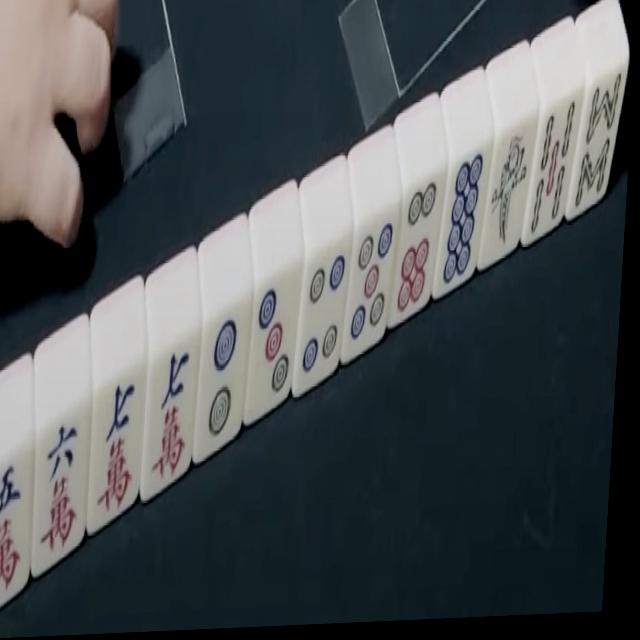m5: (0, 455, 31, 597)
m6: (27, 412, 92, 556)
m7: (89, 369, 145, 519), (141, 336, 195, 487)
s1: (481, 127, 529, 257)
s5: (527, 89, 578, 237)
s8: (573, 63, 621, 215)
t2: (192, 302, 254, 450)
t3: (243, 272, 307, 414)
t4: (293, 243, 352, 382)
t5: (346, 209, 395, 351)
t6: (389, 177, 448, 324)
t8: (433, 139, 491, 292)
